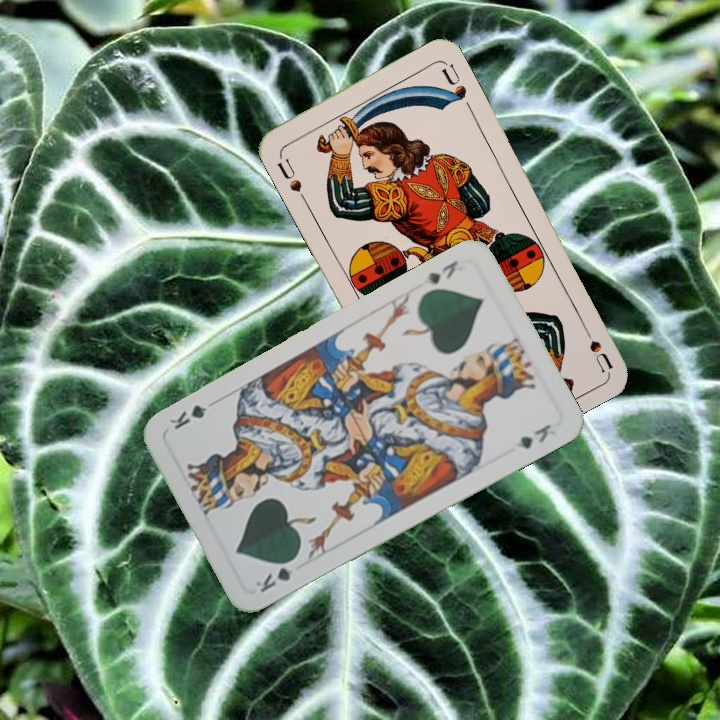GK: (251, 553, 302, 596), (424, 255, 461, 287)
SU: (576, 317, 615, 374), (272, 150, 309, 204)
